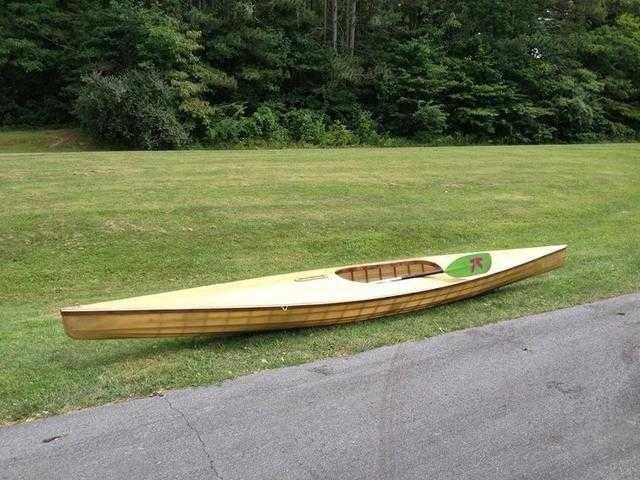kayak: (60, 241, 565, 345)
